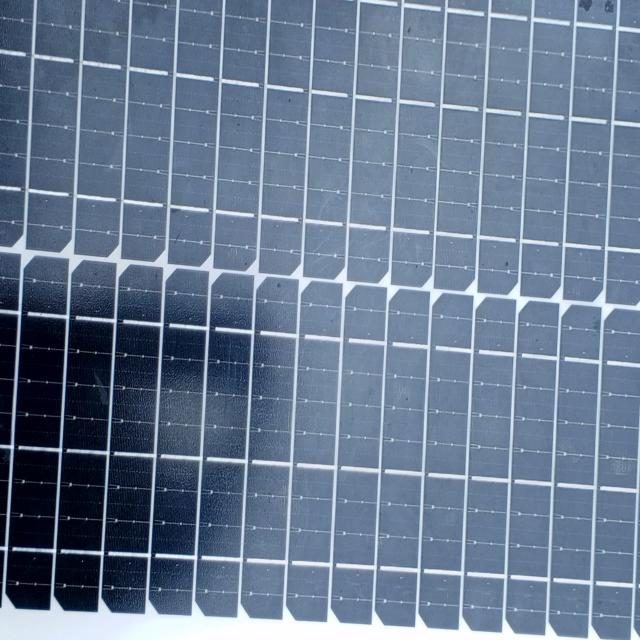Clean: (6, 5, 640, 640)
